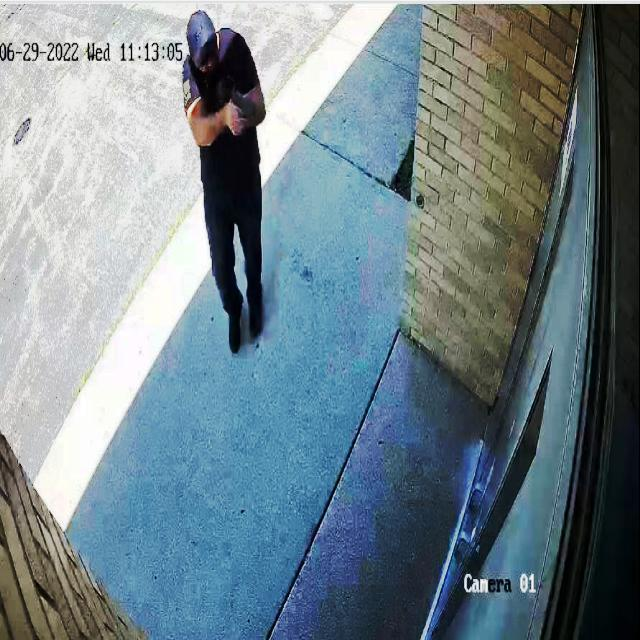Gun: (218, 85, 268, 137)
